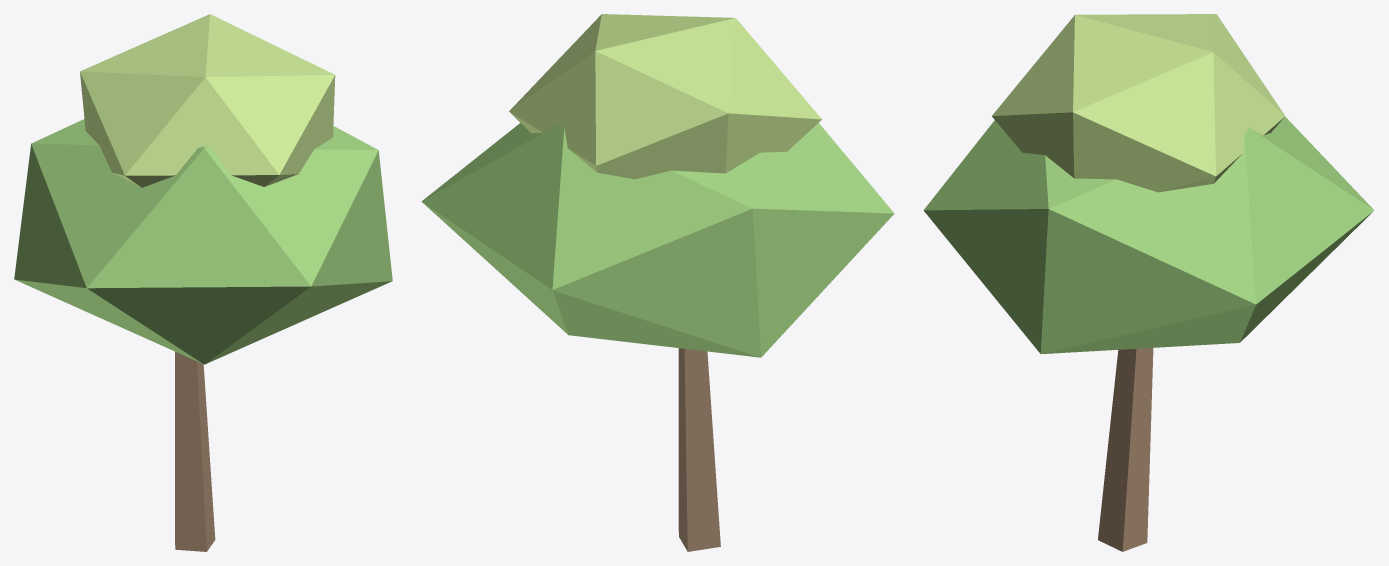
Rendered from laranjeira_0_lod.fbx.
3 renders of one model, left to right at view 1: azimuth 30°, elevation 25°; view 2: azimuth 150°, elevation 25°; view 3: azimuth 270°, elevation 25°, orthographic. The views are drawn at different scales.
Visible parts, largest first — view 1: laranjeira_0_lod~Copa@leaf, laranjeira_0_lod~Copa 0@leaflight, laranjeira_0_lod~Tronco@bark; view 2: laranjeira_0_lod~Copa@leaf, laranjeira_0_lod~Copa 0@leaflight, laranjeira_0_lod~Tronco@bark; view 3: laranjeira_0_lod~Copa@leaf, laranjeira_0_lod~Copa 0@leaflight, laranjeira_0_lod~Tronco@bark.
Part boxes in pixels (x1=…): laranjeira_0_lod~Copa@leaf: x1=14, y1=119, x2=392, y2=364; laranjeira_0_lod~Copa 0@leaflight: x1=80, y1=14, x2=335, y2=187; laranjeira_0_lod~Tronco@bark: x1=175, y1=351, x2=215, y2=551; laranjeira_0_lod~Copa@leaf: x1=421, y1=123, x2=894, y2=357; laranjeira_0_lod~Copa 0@leaflight: x1=509, y1=14, x2=821, y2=179; laranjeira_0_lod~Tronco@bark: x1=678, y1=348, x2=720, y2=551; laranjeira_0_lod~Copa@leaf: x1=923, y1=116, x2=1374, y2=353; laranjeira_0_lod~Copa 0@leaflight: x1=992, y1=14, x2=1285, y2=192; laranjeira_0_lod~Tronco@bark: x1=1098, y1=348, x2=1153, y2=551.
Size of the model in its own units: 2.44 by 3.25 by 2.55.
